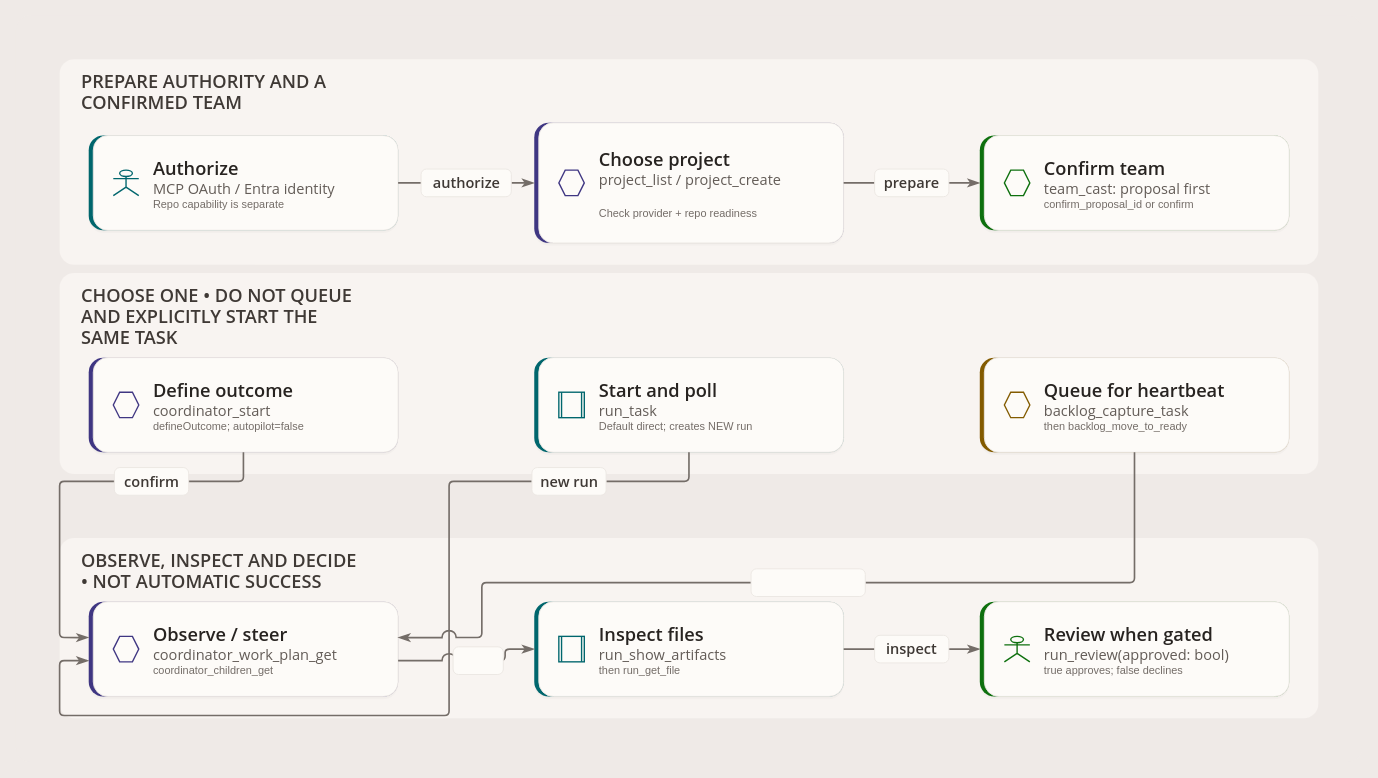
The diagram is 1378 pixels wide and 778 high, and some of its shapes have lost their labels. Here are the shapes that lost their labels. From the top down, the centre of each, then its label:
(807,582): reserved run
(477,660): list
